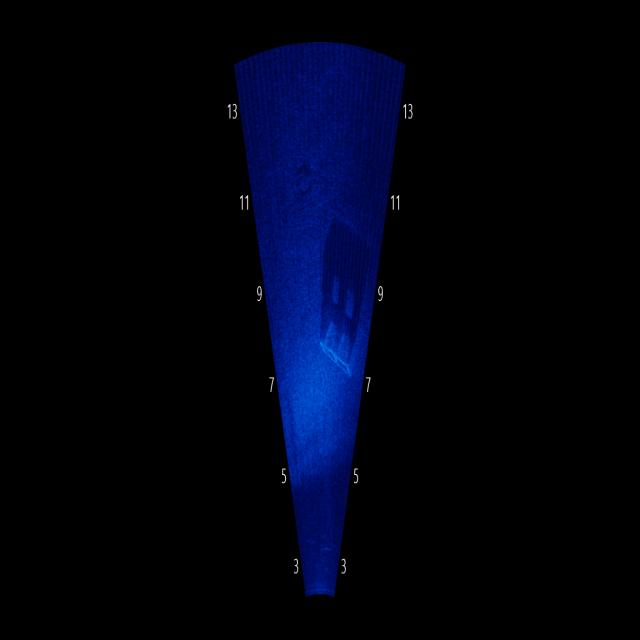square: (314, 314, 369, 381)
